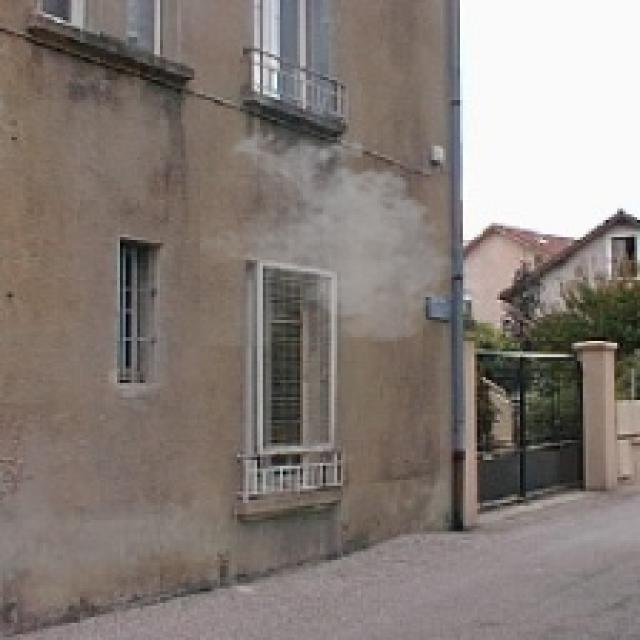smoke: (200, 125, 466, 348)
